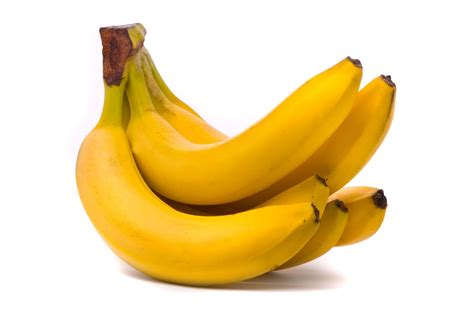banana: (70, 120, 324, 285), (120, 54, 364, 207)
